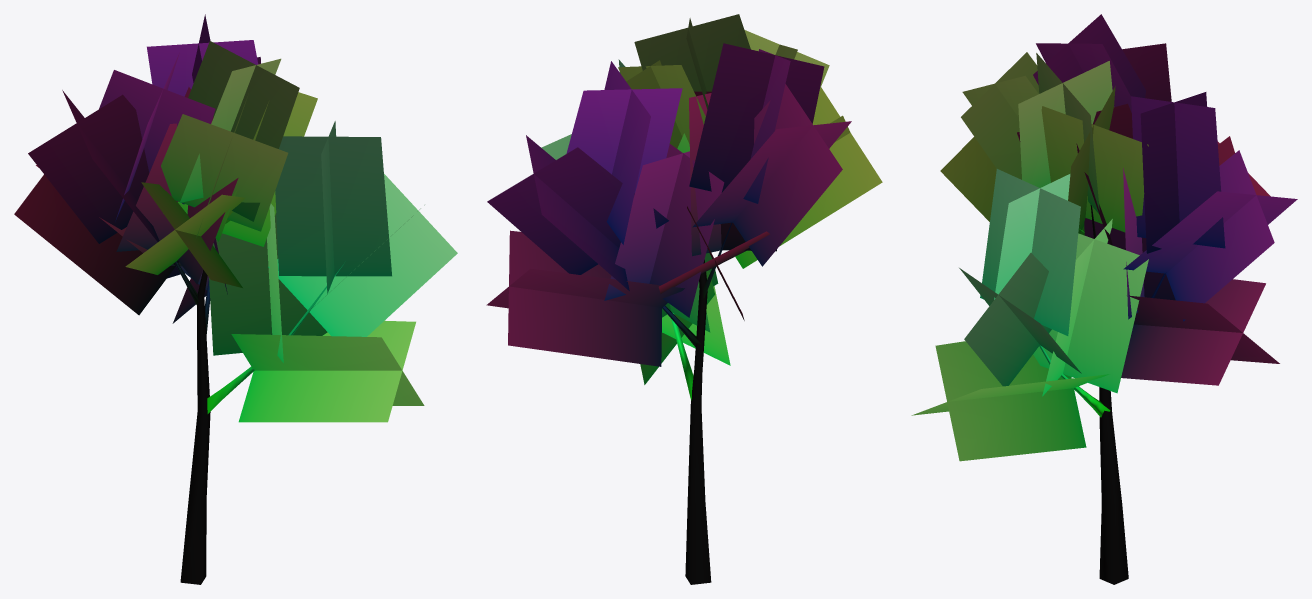
Rendered from SuperTree_22.fbx.
3 renders of one model, left to right at view 1: azimuth 30°, elevation 25°; view 2: azimuth 150°, elevation 25°; view 3: azimuth 270°, elevation 25°, orthographic. The views are drawn at different scales.
Parts seen in each view (by area): view 1: SuperTree_22; view 2: SuperTree_22; view 3: SuperTree_22.
Part boxes in pixels (x1=…): SuperTree_22: x1=14, y1=14, x2=457, y2=584; SuperTree_22: x1=486, y1=14, x2=882, y2=584; SuperTree_22: x1=911, y1=14, x2=1297, y2=584.
Size of the model in its own units: 627 by 917 by 611.
